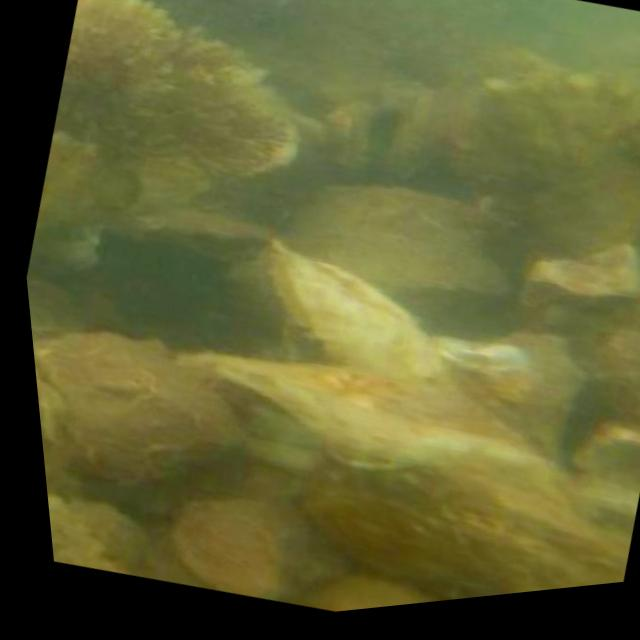Oyster-Closed: (286, 185, 528, 338), (273, 239, 445, 378), (96, 201, 273, 293), (526, 243, 639, 296)
Oyster-Indeterminate: (190, 349, 575, 549), (32, 327, 236, 480), (178, 499, 287, 599), (311, 576, 426, 611)
Oyster-Open: (572, 423, 640, 537), (322, 104, 432, 173)
